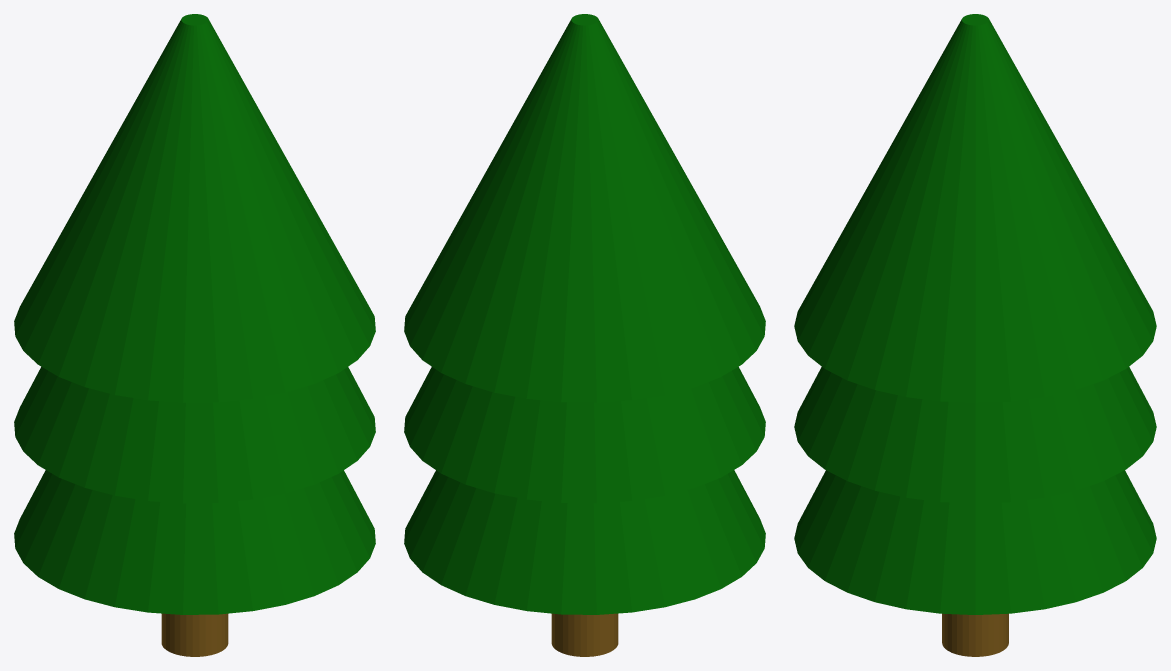
The model's file is Simple_Tree.fbx.
3 views of the same model, side by side, from view 1: azimuth 30°, elevation 25°; view 2: azimuth 150°, elevation 25°; view 3: azimuth 270°, elevation 25° (orthographic).
Parts seen in each view (by area): view 1: Tree; view 2: Tree; view 3: Tree.
Part boxes in pixels (x1,y1,x2,y2): Tree: [14, 14, 375, 656]; Tree: [404, 14, 765, 656]; Tree: [794, 14, 1156, 656].
Bounding box in the file's own units: 6439 × 12211 × 6439.
